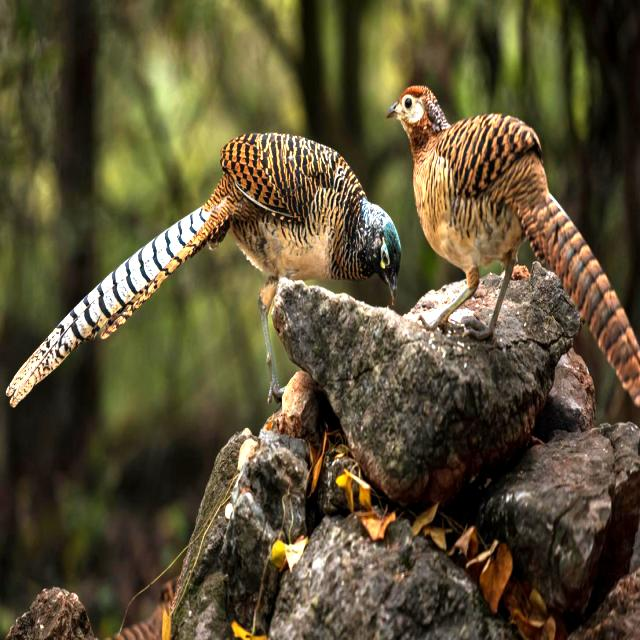Chrysolophus amherstiae: (6, 202, 223, 406)
